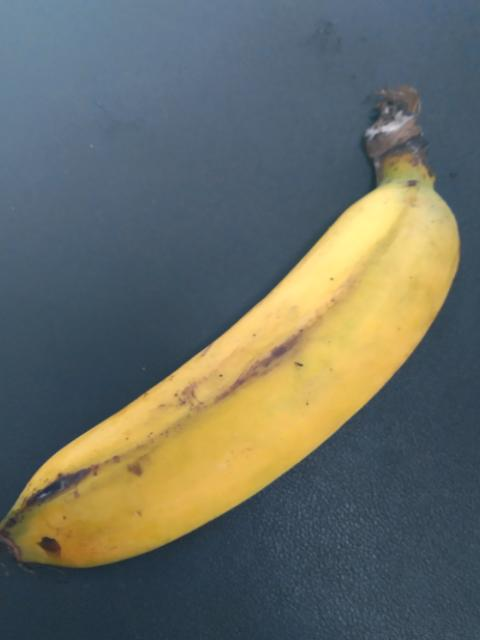freshripe: (0, 172, 448, 590)
